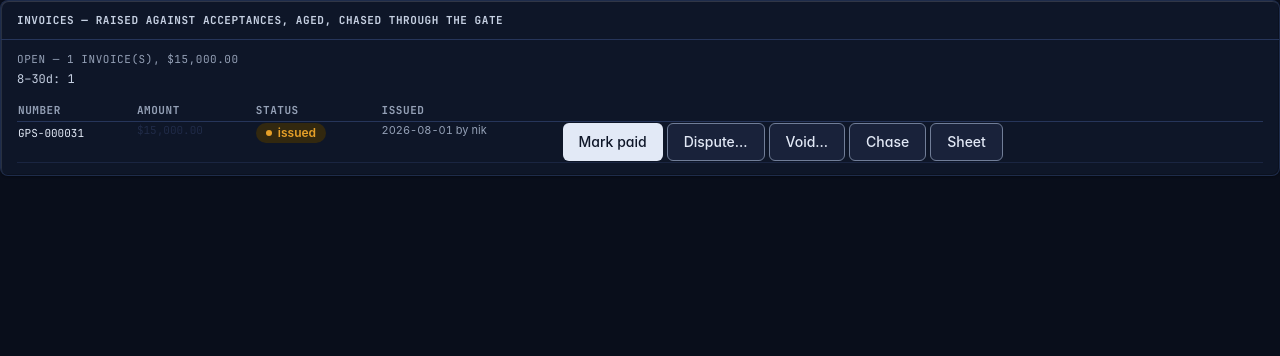
Test: the invoices panel › the chase opens a gated draft with a verdict and NO send control
The width and height of the screenshot is (1280, 356).
Check: the row with test id "invoice-31" is shown, box left=17, top=121, right=1263, bottom=162
Click the button "Chase": (888, 142) left=849, top=123, right=926, bottom=161
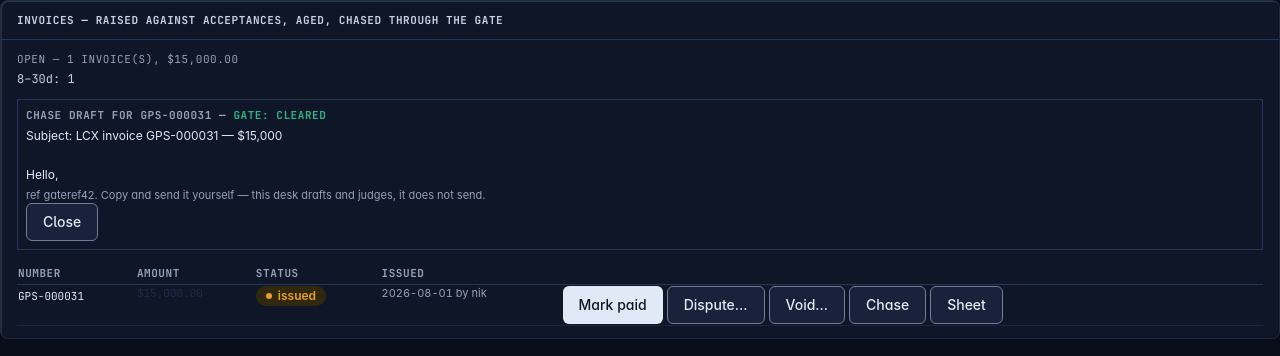
Check: the element with test id "chase-draft" shows "gate: cleared", box left=17, top=99, right=1263, bottom=250
Check: the text with test id "chase-text" shows "GPS-000031", box left=26, top=128, right=282, bottom=182
Check: the element with test id "chase-draft" shows "it does not send", box left=94, top=188, right=486, bottom=202
